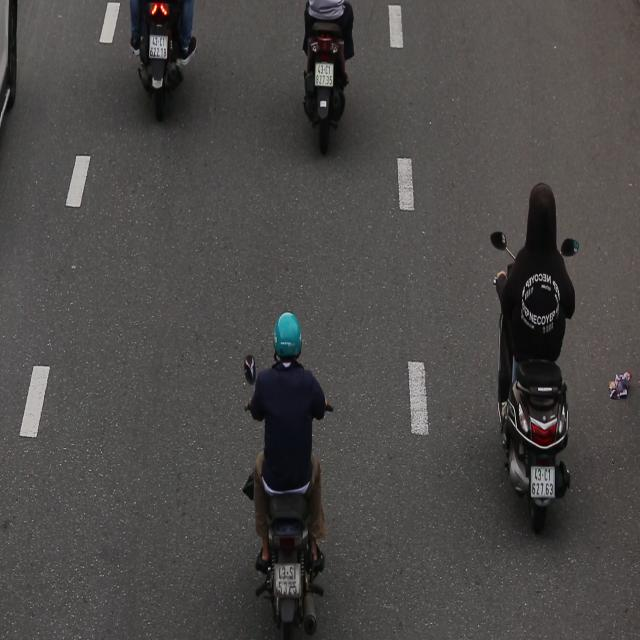motorbike: (483, 171, 581, 557), (237, 297, 332, 640)
